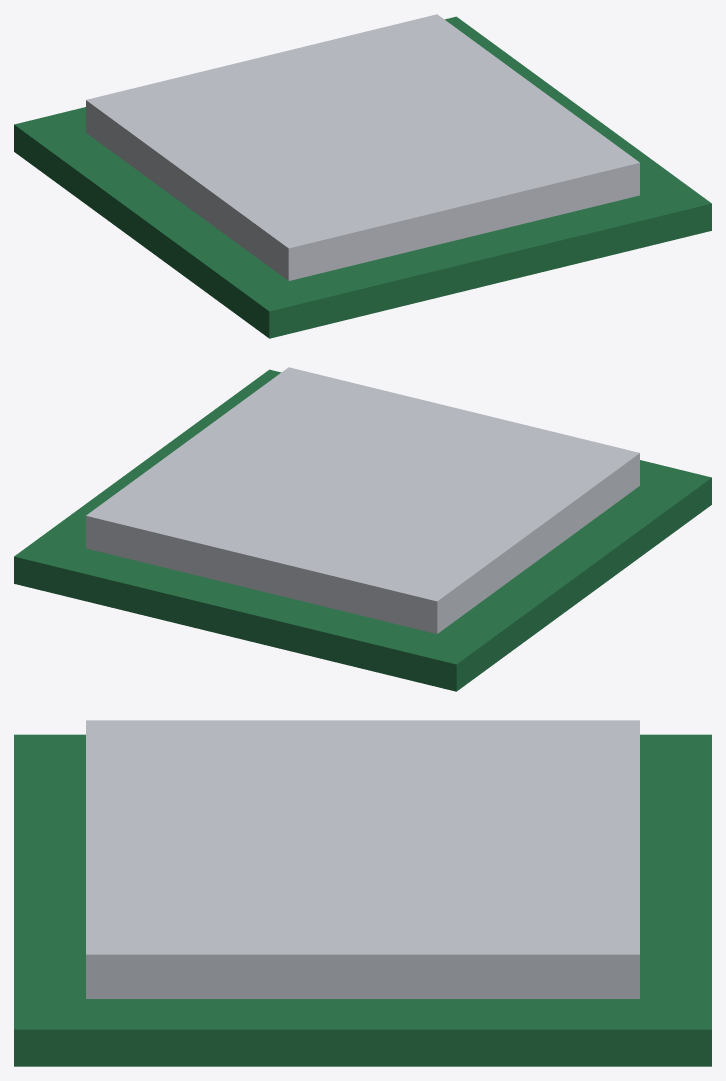
File: cpu.glb
3 renders of one model, top to bottom at view 1: azimuth 30°, elevation 25°; view 2: azimuth 150°, elevation 25°; view 3: azimuth 270°, elevation 25°, orthographic. The views are drawn at different scales.
Visible parts, largest first — view 1: world; view 2: world; view 3: world.
Part boxes in pixels (x1,y1,x2,y2): world: (14, 14, 711, 338); world: (14, 367, 711, 691); world: (14, 720, 711, 1066).
Size of the model in its own units: 1.7 by 0.22 by 1.7.
